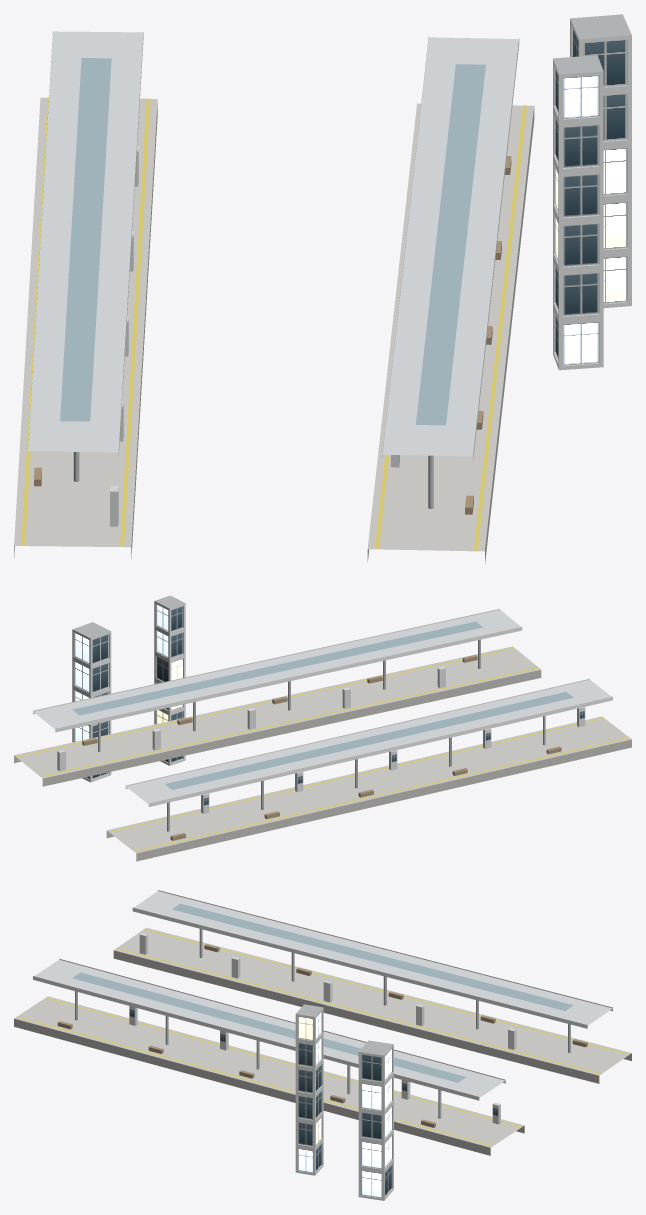
File: bahnhof_hardbruecke.glb
3 renders of one model, top to bottom at view 1: azimuth 30°, elevation 25°; view 2: azimuth 150°, elevation 25°; view 3: azimuth 270°, elevation 25°, orthographic. The views are drawn at different scales.
Parts seen in each view (by area): view 1: hardbruecke; view 2: hardbruecke; view 3: hardbruecke.
Part boxes in pixels (bbox=[...]): hardbruecke: bbox=[14, 14, 631, 563]; hardbruecke: bbox=[14, 595, 631, 861]; hardbruecke: bbox=[14, 890, 631, 1200].
Bounding box in the file's own units: 57.93 × 19.68 × 68.71.
2 materials, 2 textured.
